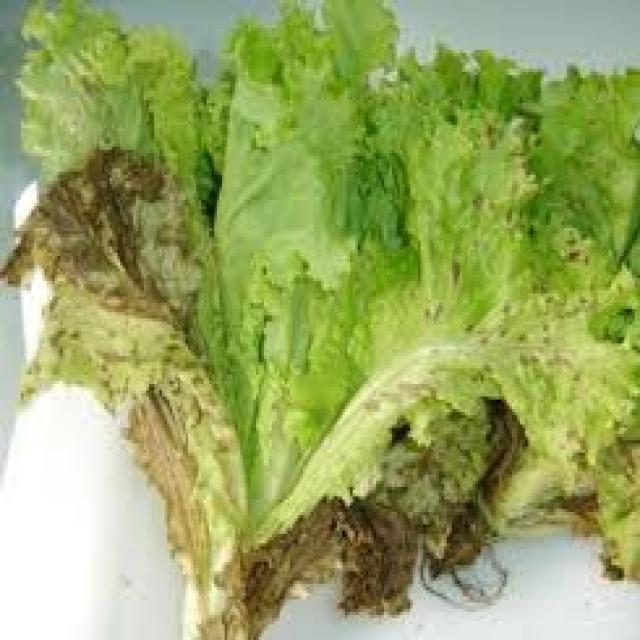Septoria_Blight_on_lettuce: (50, 102, 621, 368)
